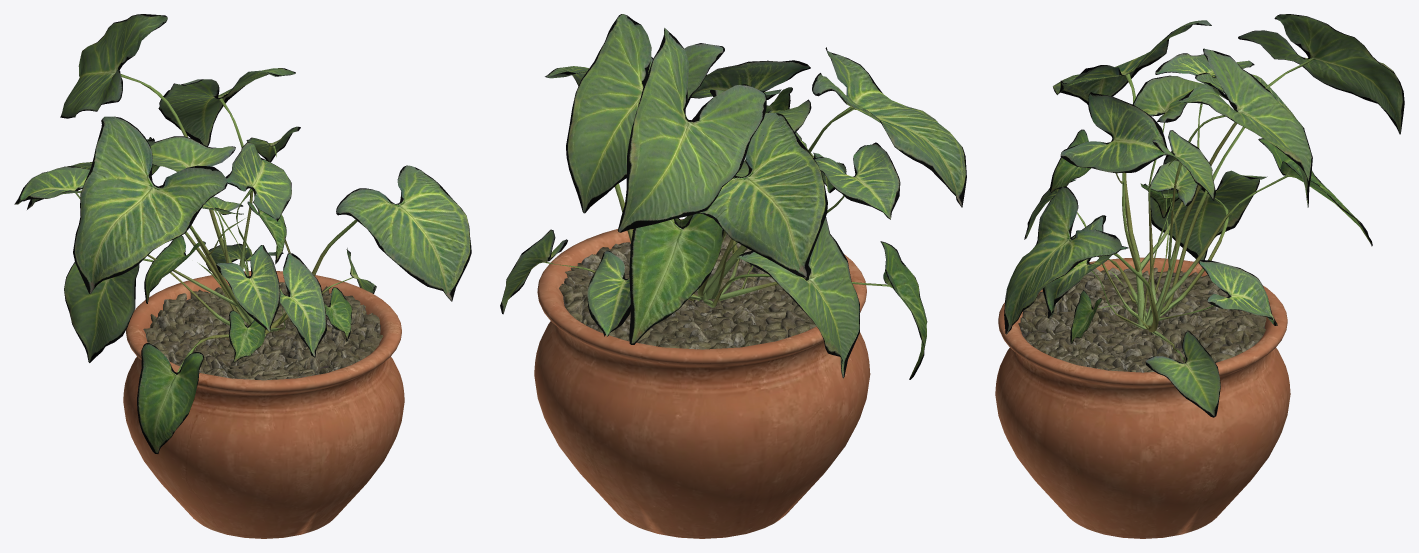
Rendered from potted_plant_02.glb.
The picture shows the model from 3 angles, left to right: view 1: azimuth 30°, elevation 25°; view 2: azimuth 150°, elevation 25°; view 3: azimuth 270°, elevation 25°; orthographic projection. The views are drawn at different scales.
Parts seen in each view (by area): view 1: potted_plant_02_leaves, potted_plant_02_pot; view 2: potted_plant_02_leaves, potted_plant_02_pot; view 3: potted_plant_02_pot, potted_plant_02_leaves.
Part boxes in pixels (x1,y1,x2,y2): potted_plant_02_leaves: (14, 14, 471, 453); potted_plant_02_pot: (123, 271, 404, 538); potted_plant_02_leaves: (500, 14, 966, 379); potted_plant_02_pot: (534, 219, 870, 538); potted_plant_02_pot: (995, 257, 1290, 538); potted_plant_02_leaves: (1004, 14, 1404, 417).
Size of the model in its own units: 0.7009 by 0.8412 by 0.6574.
Materials: 2 (2 with a texture image).
